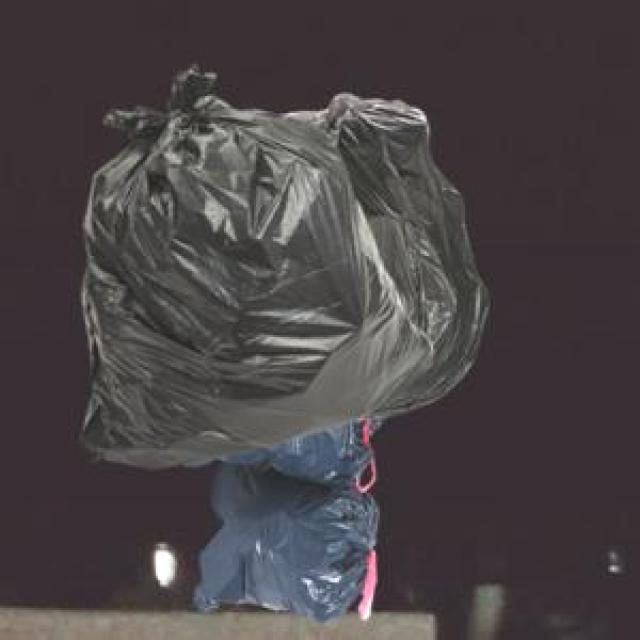Trashbag: (74, 52, 435, 457), (188, 462, 384, 628)
